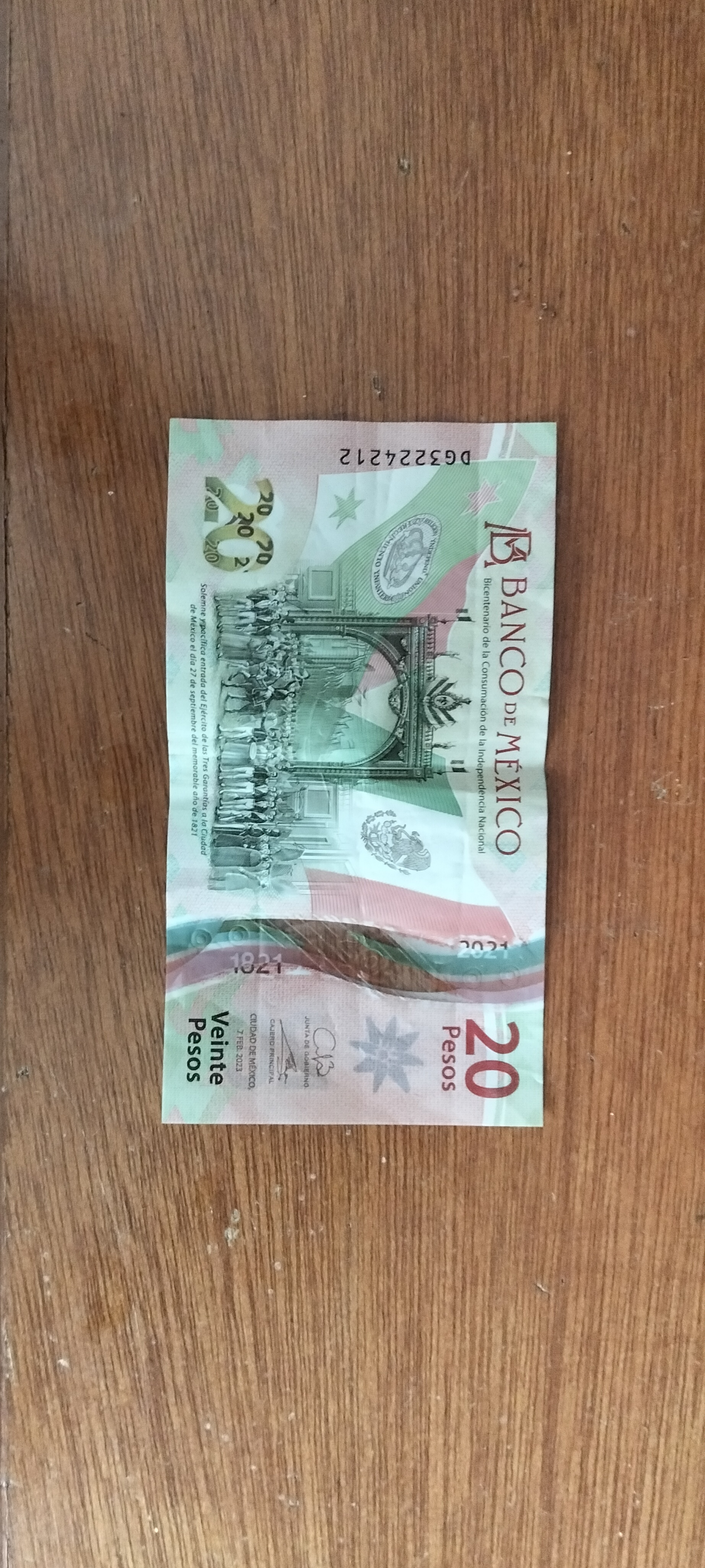billetes: (148, 401, 563, 1138)
